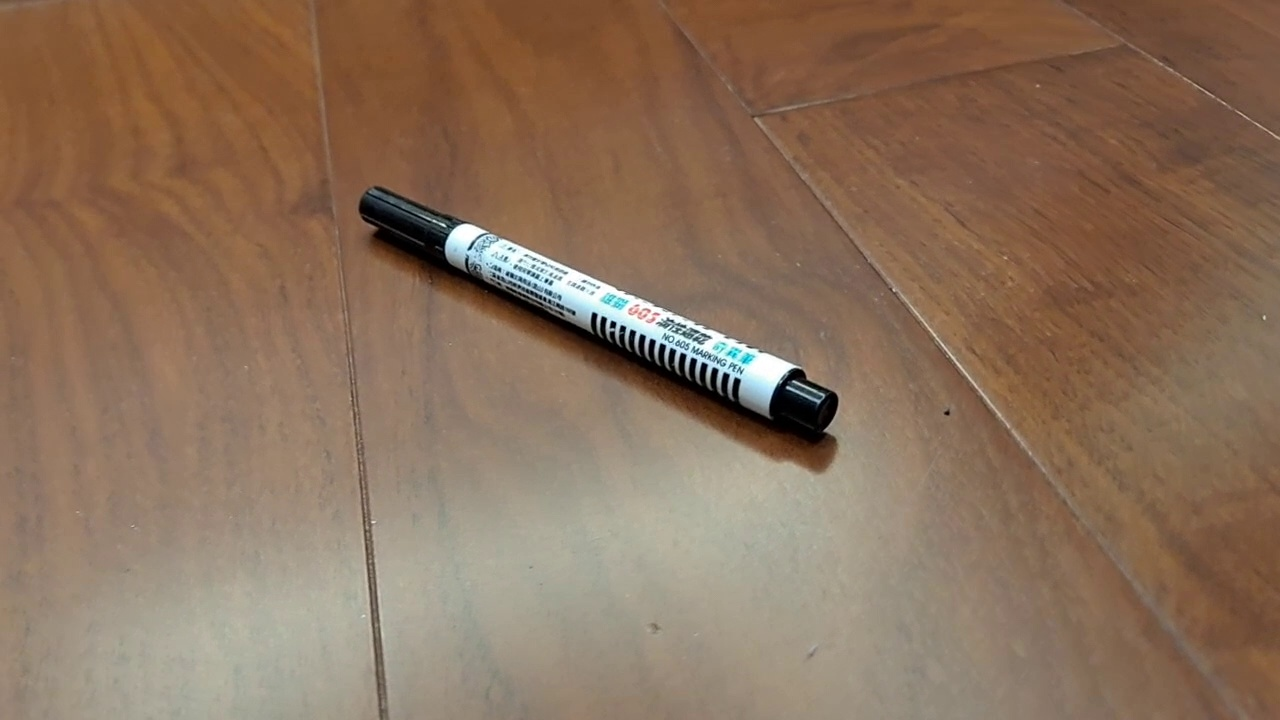pen: (358, 185, 839, 435)
